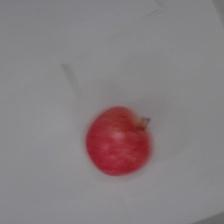red: (85, 106, 152, 177)
